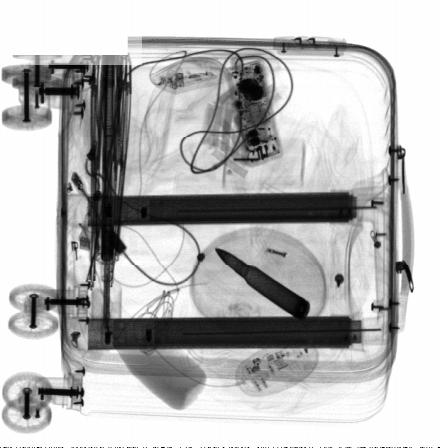Bullet: (213, 246, 311, 322)
